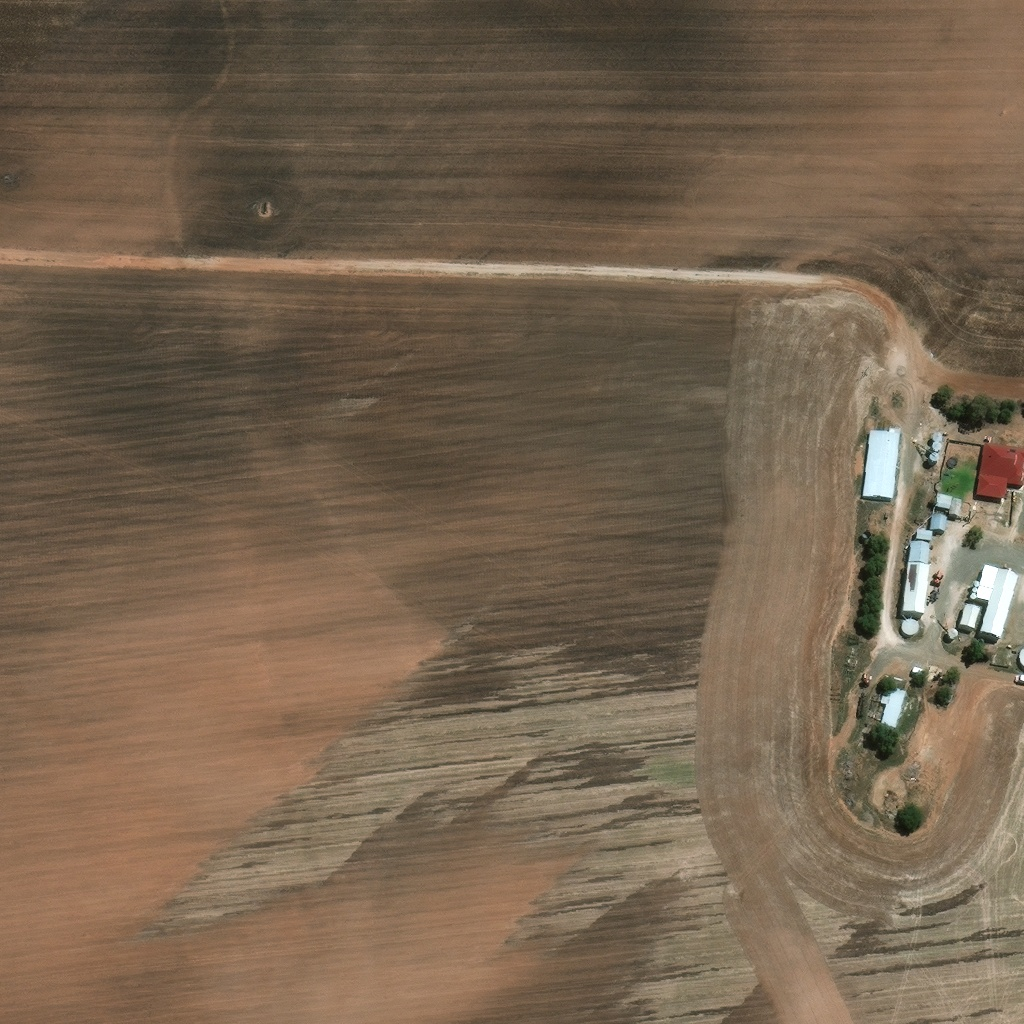0 no-damage: (856, 426, 902, 500), (975, 564, 1019, 639), (975, 440, 1023, 501), (880, 680, 909, 726), (903, 564, 928, 614), (926, 432, 943, 466), (960, 603, 981, 629), (909, 541, 929, 563), (902, 615, 920, 633), (930, 515, 949, 531), (949, 496, 963, 517), (936, 492, 953, 509), (915, 529, 934, 540), (969, 581, 980, 600), (913, 664, 928, 674), (947, 626, 959, 638)
4 un-classified: (813, 399, 824, 412)
